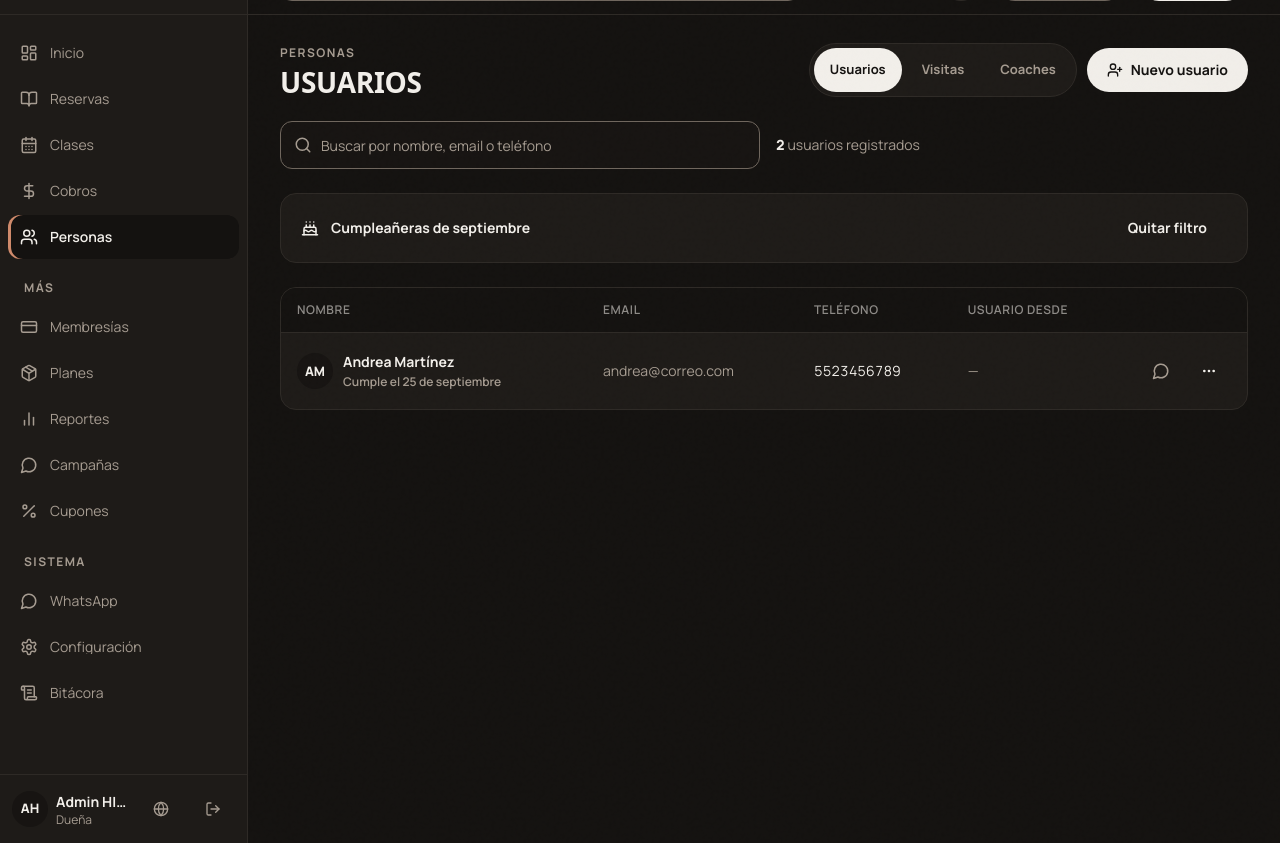
Test: Personas · Usuarios › ?birthday=month muestra a las cumpleañeras del mes y se puede quitar
Expected: the text "Cumpleañeras de septiembre" is shown, [331,218,530,237]
Expected: the text "Andrea Martínez" is shown, [343,352,454,370]
Click the button "Quitar filtro".
click(1167, 228)  # box [1108,206,1227,250]
(page scrolled)
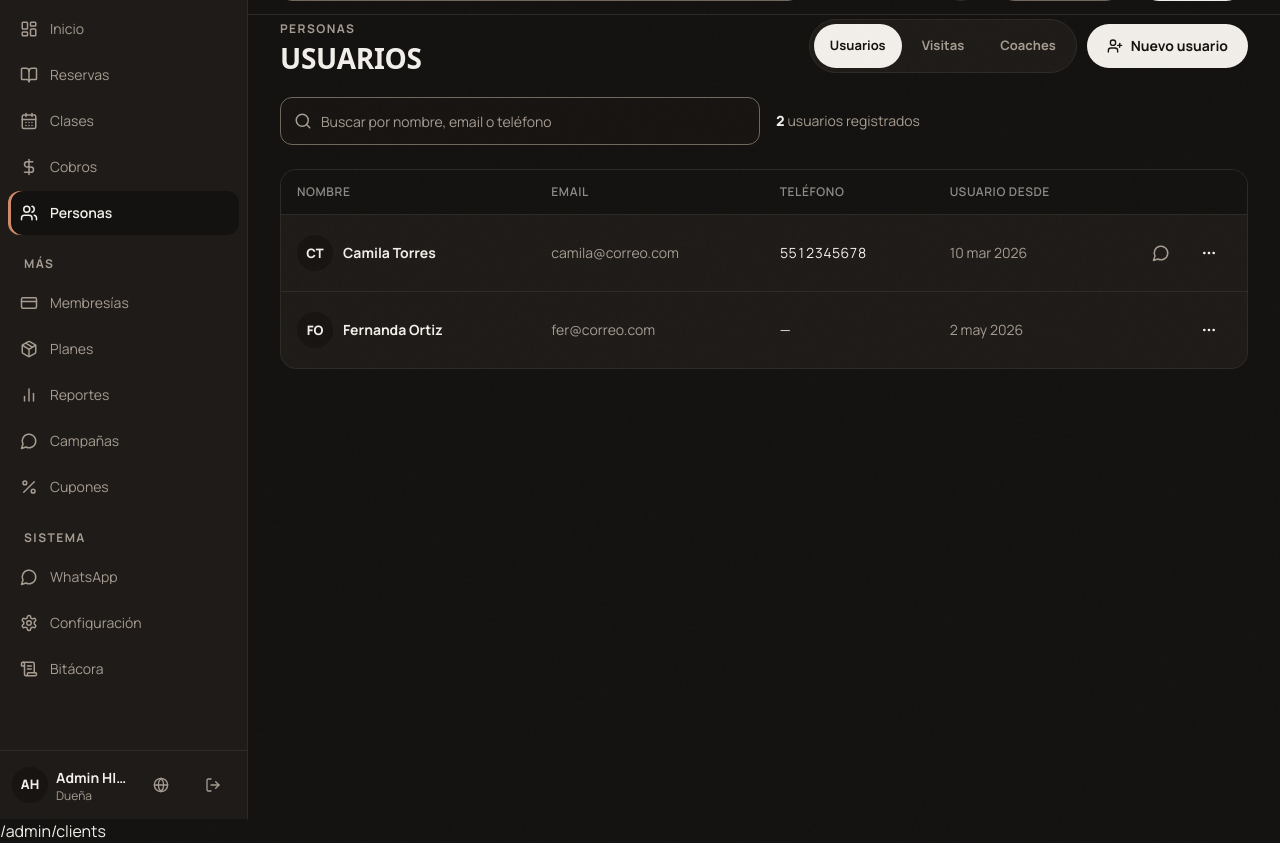
Expected: the text with test id "location" reads "/admin/clients", [0,820,106,842]
